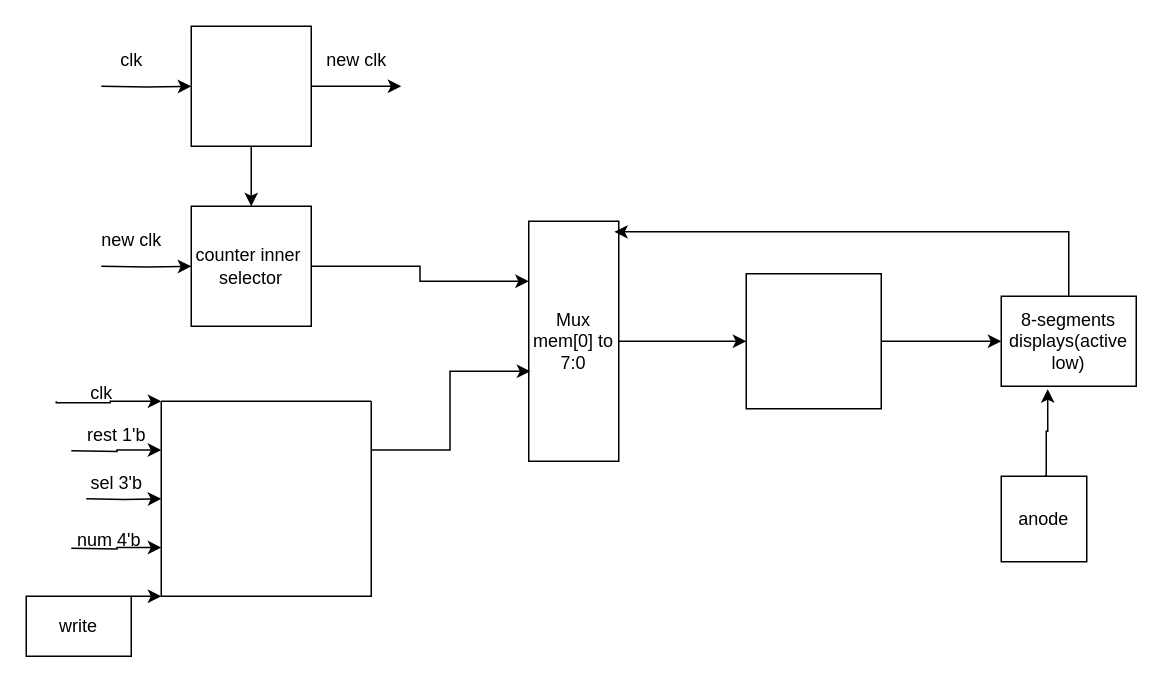
The diagram is 1163 pixels wide and 683 high, and some of its shapes have lost their labels. The shapes that lost their labels are listed below. From the top down, each one's centre as x and y in pixels, then its label:
At point 250,85: "clock dividor".
At point 813,340: "num decoder".
At point 265,498: "8-D flip flop".
